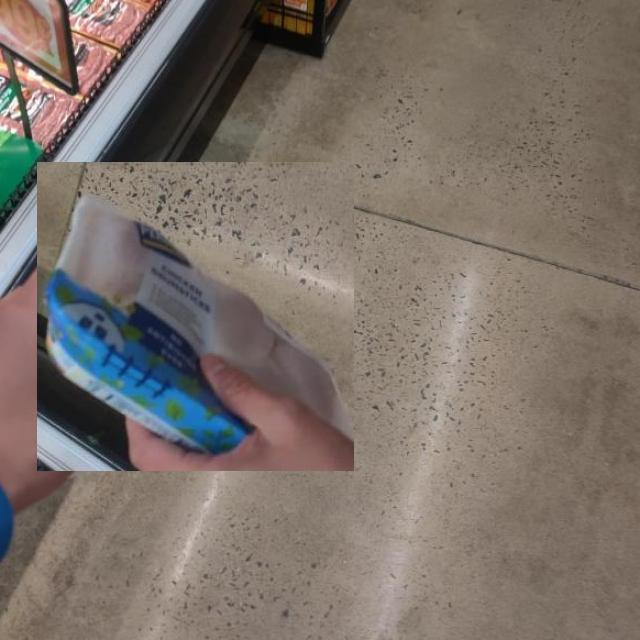Meat: (38, 161, 354, 471)
